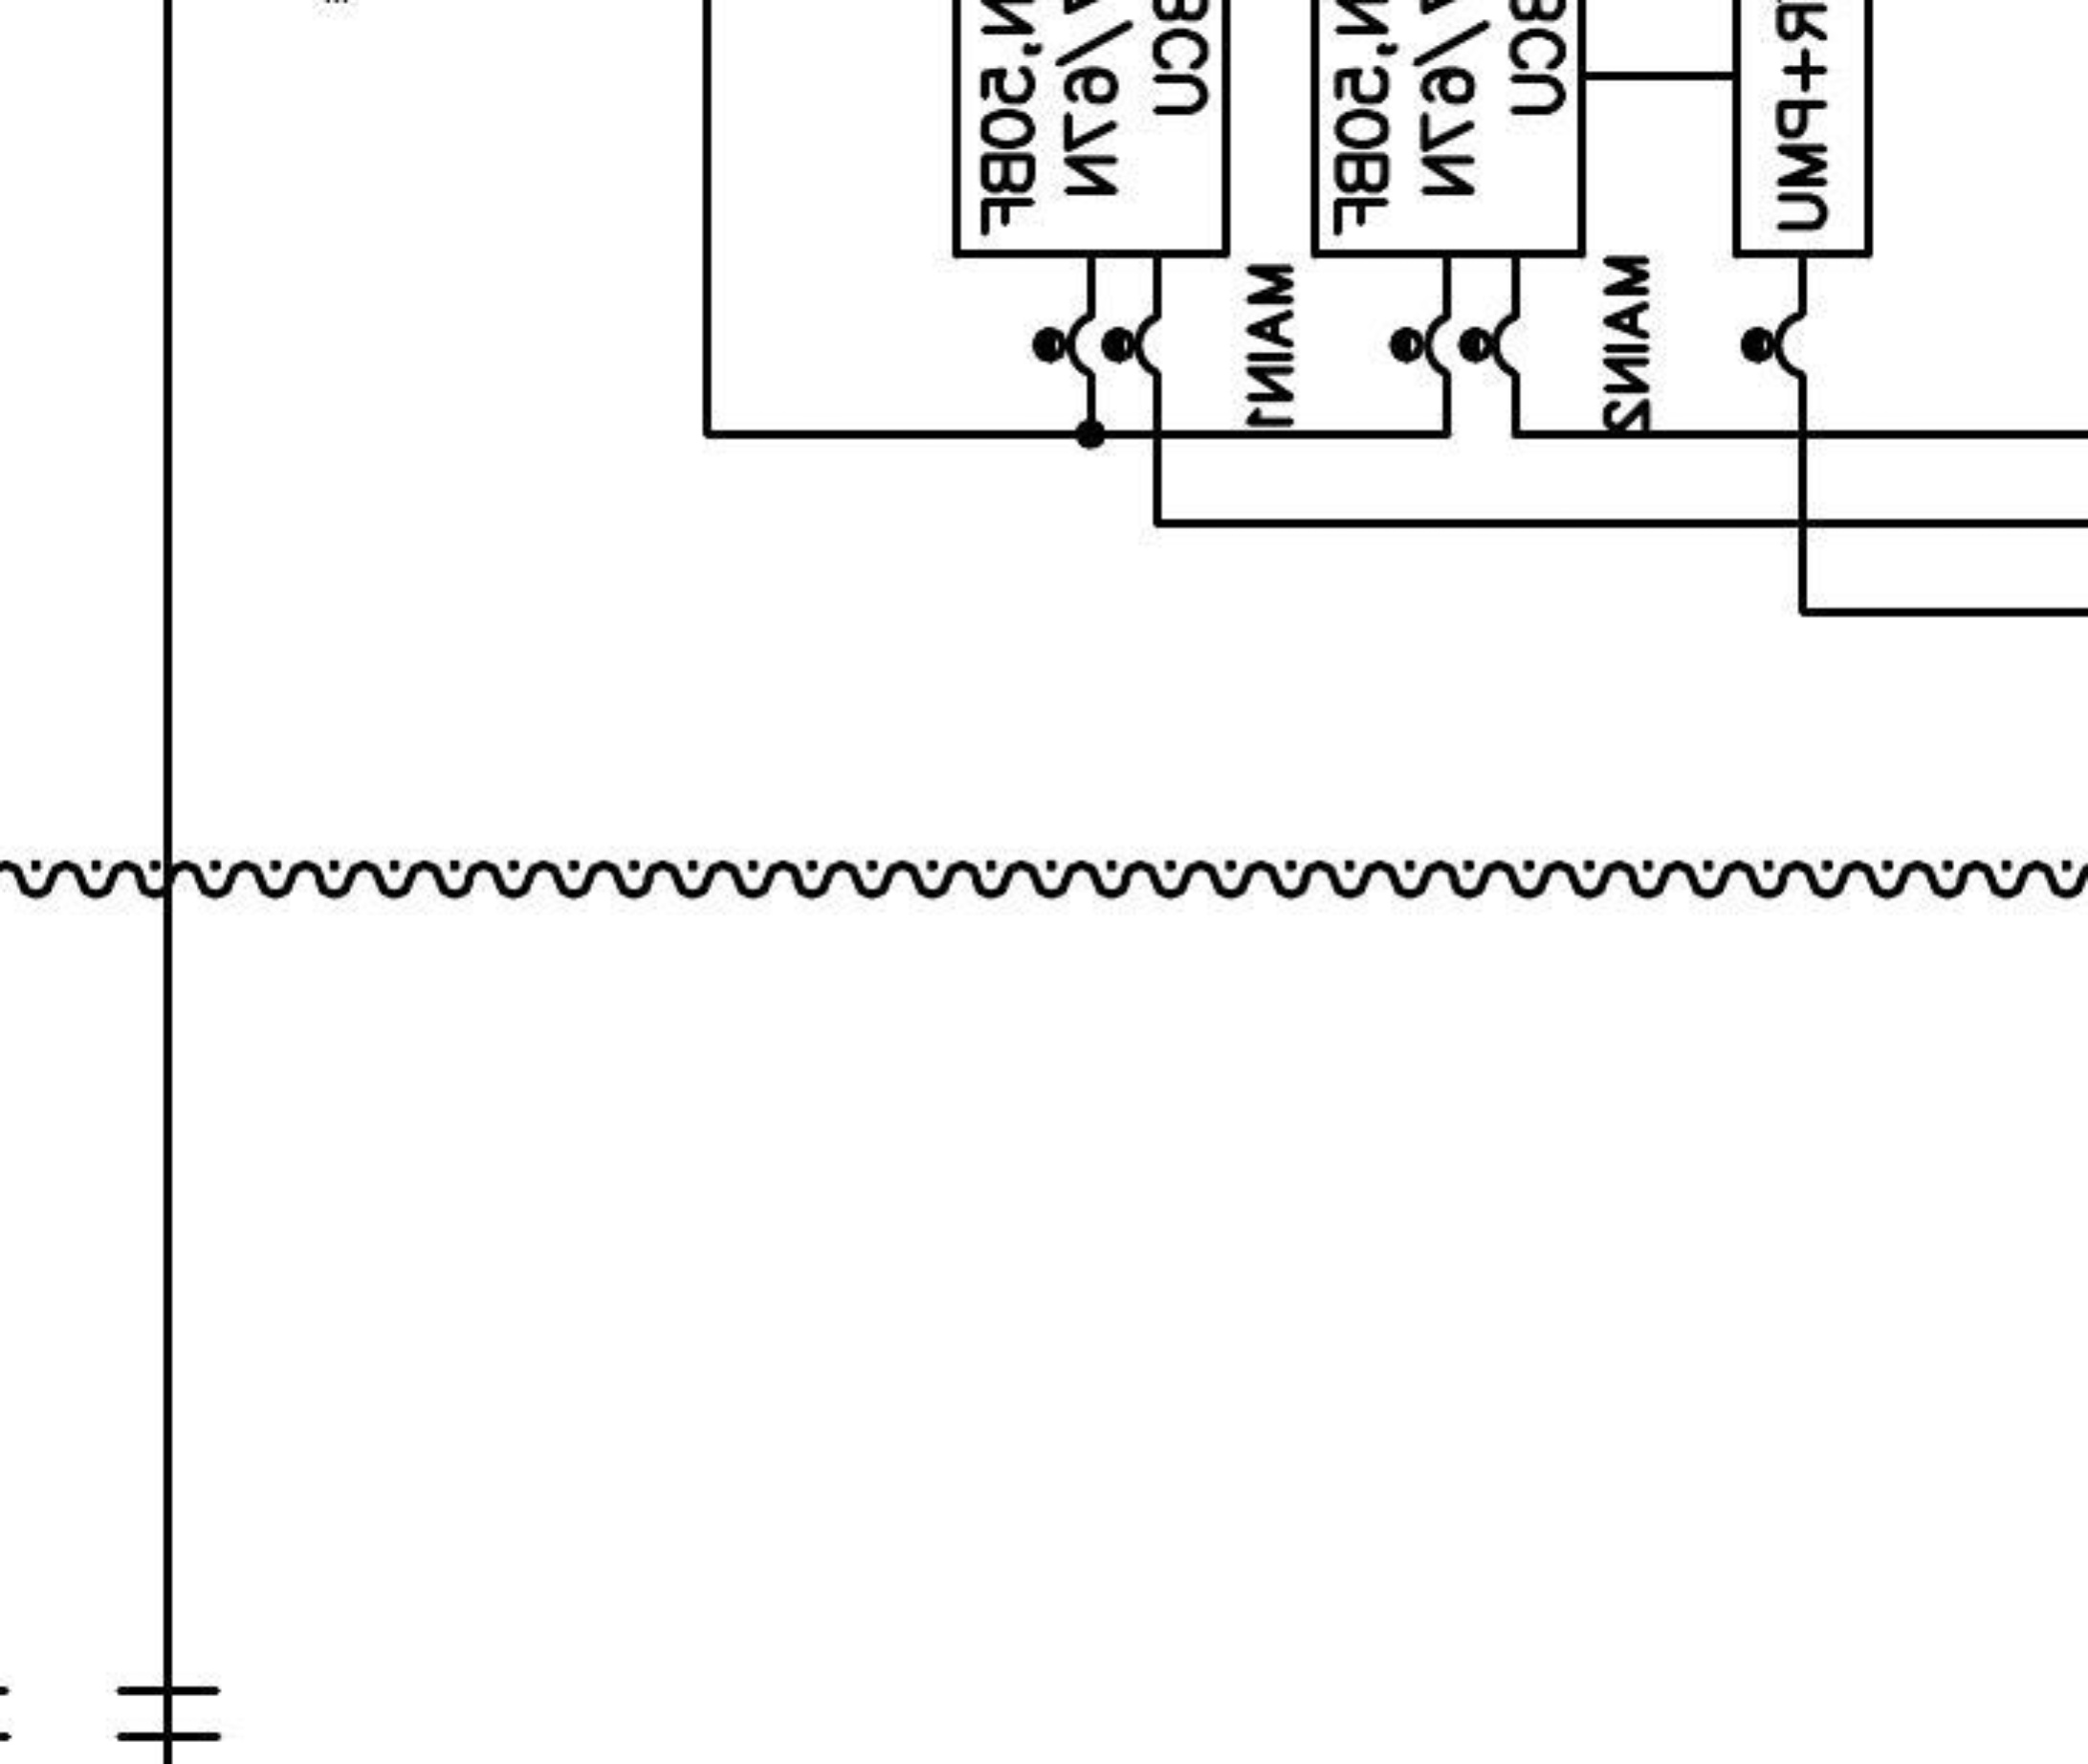115_buffer: (116, 1687, 222, 1743)
